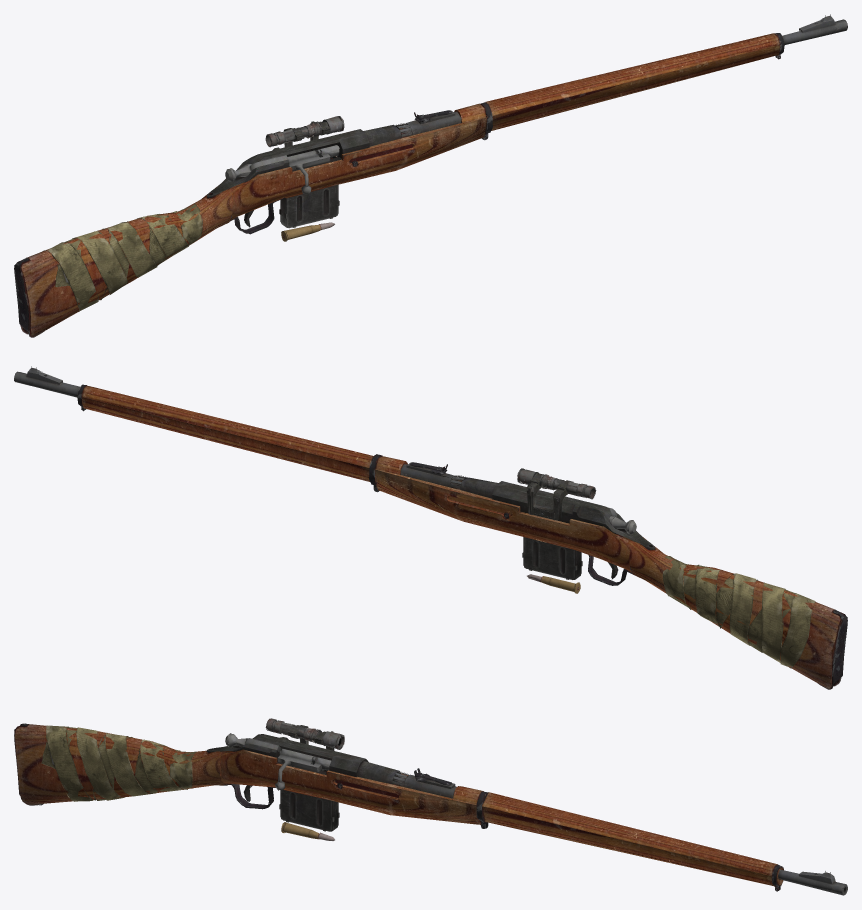
File: bolt_action_rifle_7_62.gltf
3 views of the same model, one above another, from view 1: azimuth 30°, elevation 25°; view 2: azimuth 150°, elevation 25°; view 3: azimuth 330°, elevation 25° (orthographic).
Visible parts, largest first — view 1: bolt_action_rifle_7_62; view 2: bolt_action_rifle_7_62; view 3: bolt_action_rifle_7_62.
Part boxes in pixels (box(x1,y1,x2,y2)): bolt_action_rifle_7_62: box(14, 14, 847, 337); bolt_action_rifle_7_62: box(14, 366, 847, 689); bolt_action_rifle_7_62: box(14, 718, 847, 895).
Size of the model in its own units: 1.23 by 0.2057 by 0.0669.
Materials: 1 (1 with a texture image).
